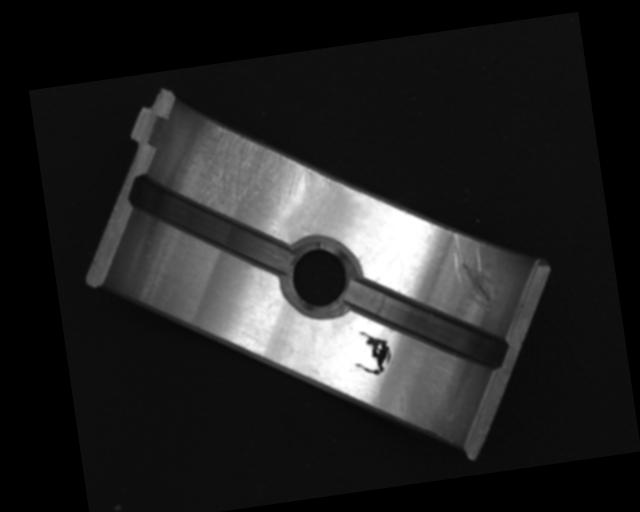blot: (349, 321, 395, 379)
gap: (126, 155, 295, 294), (342, 260, 510, 387)
hole: (275, 232, 366, 323)
nick: (450, 224, 501, 315)
scratch: (167, 103, 334, 223)
